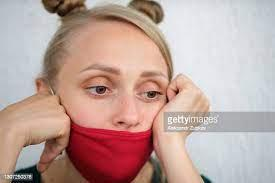mask_weared_incorrect: (51, 0, 183, 182)
